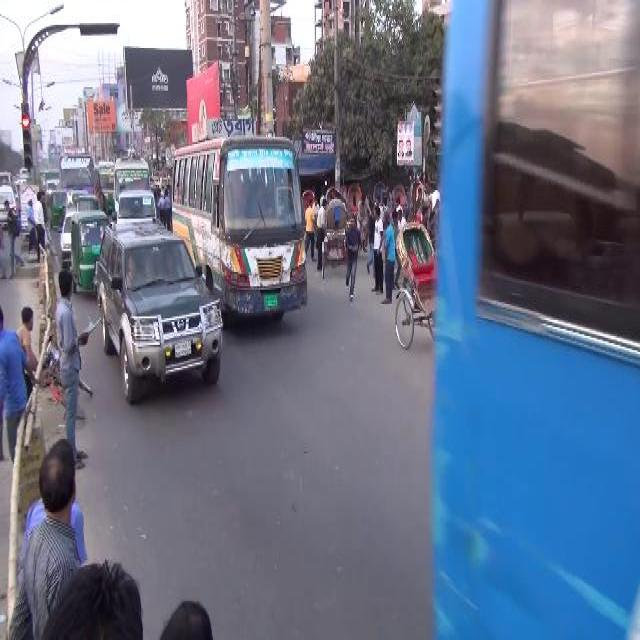13: (392, 214, 436, 358), (320, 196, 348, 280), (346, 181, 364, 249)
15: (88, 215, 226, 404)
17: (64, 207, 110, 298), (48, 188, 66, 232)
Truck: (167, 136, 311, 333), (54, 144, 98, 190), (112, 151, 152, 201)
